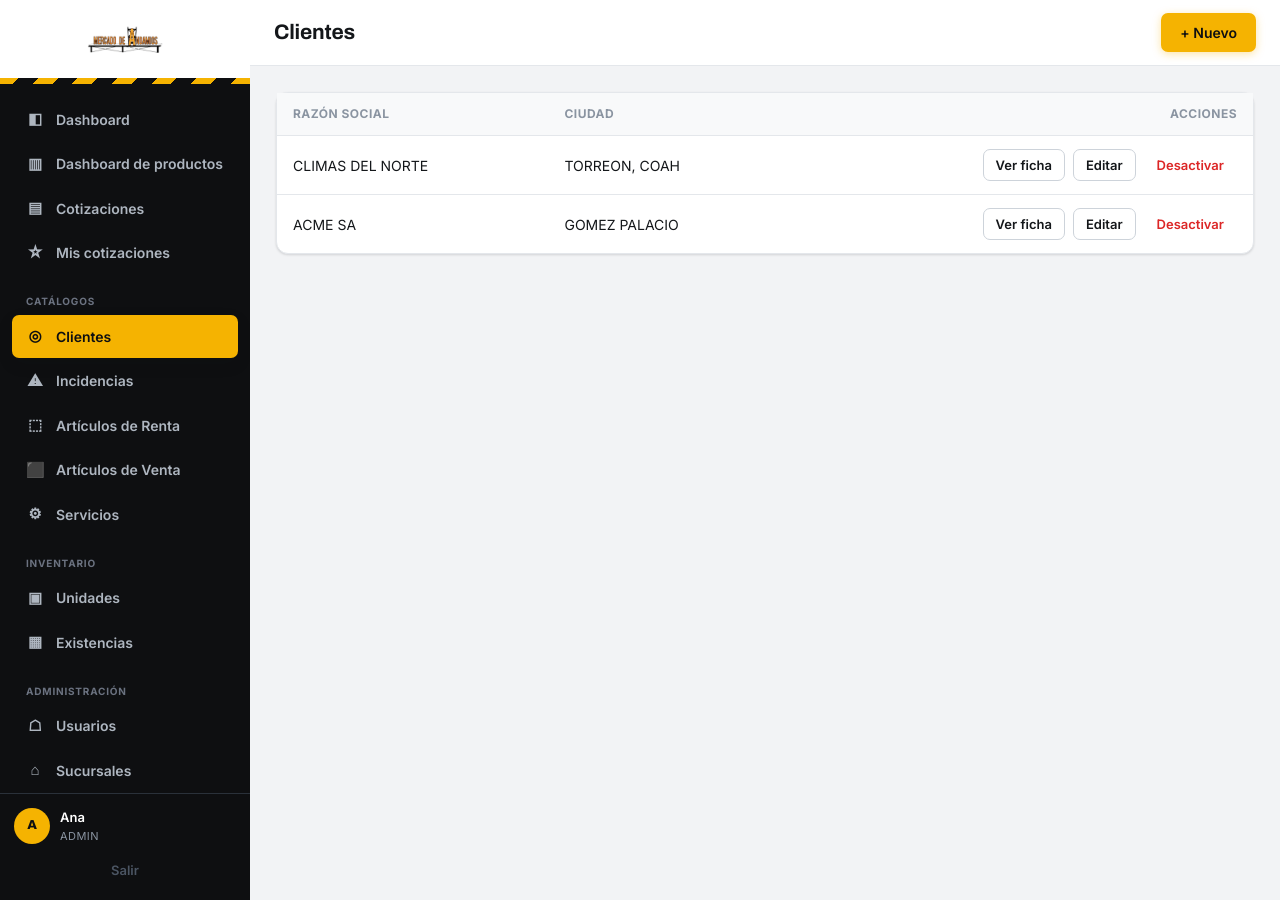
Test case: AdminCRUD — recurso con ficha propia › “Editar” abre el modal sin navegar a la ficha
This screenshot has width=1280, height=900.
What coordinates should you click on to do the following:
click the button "Editar" in the row of "CLIMAS DEL NORTE"
I would click on:
 (1104, 165)
Its box is [1073,149,1136,181].
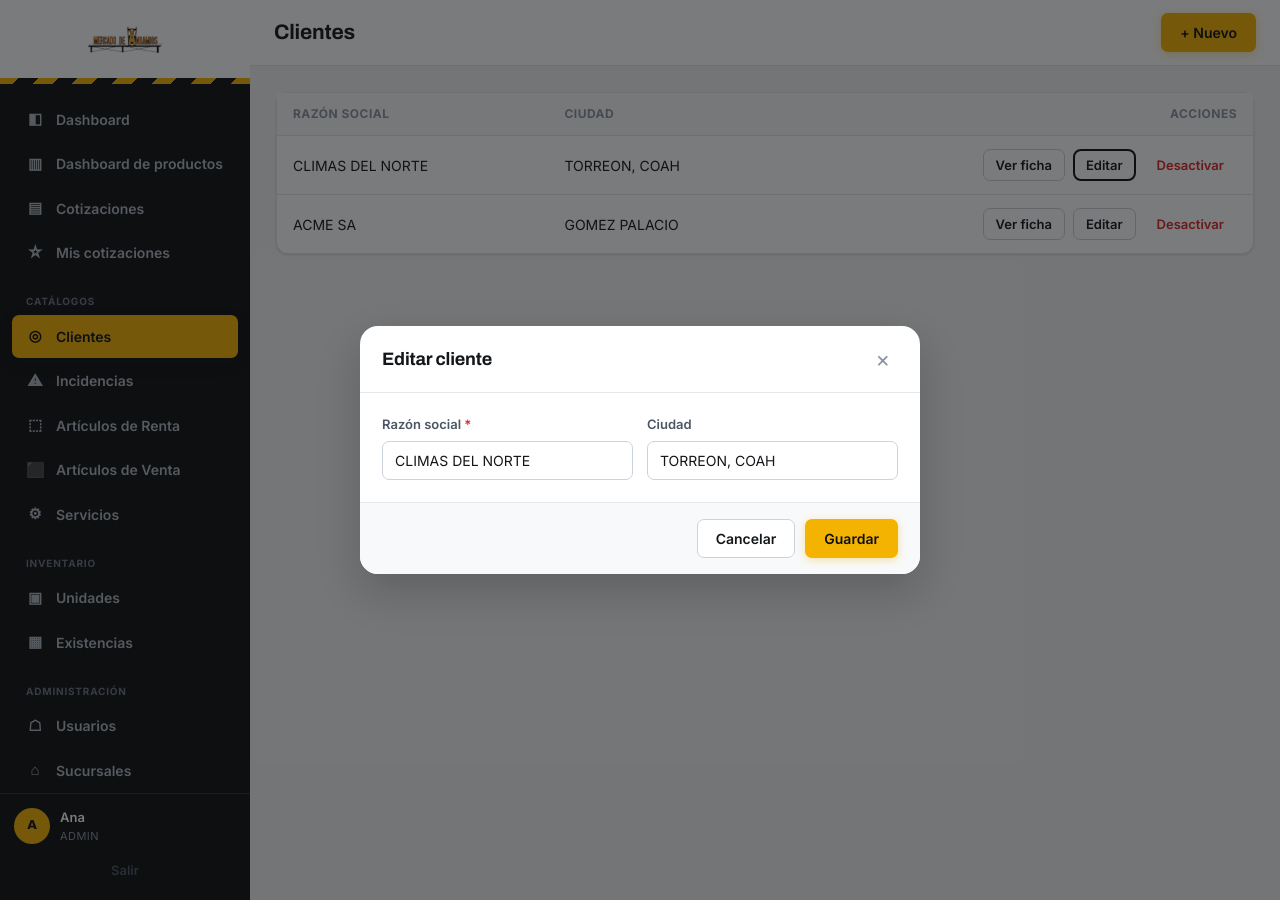
Expected: the heading "Editar cliente" is shown, [382,349,492,370]
